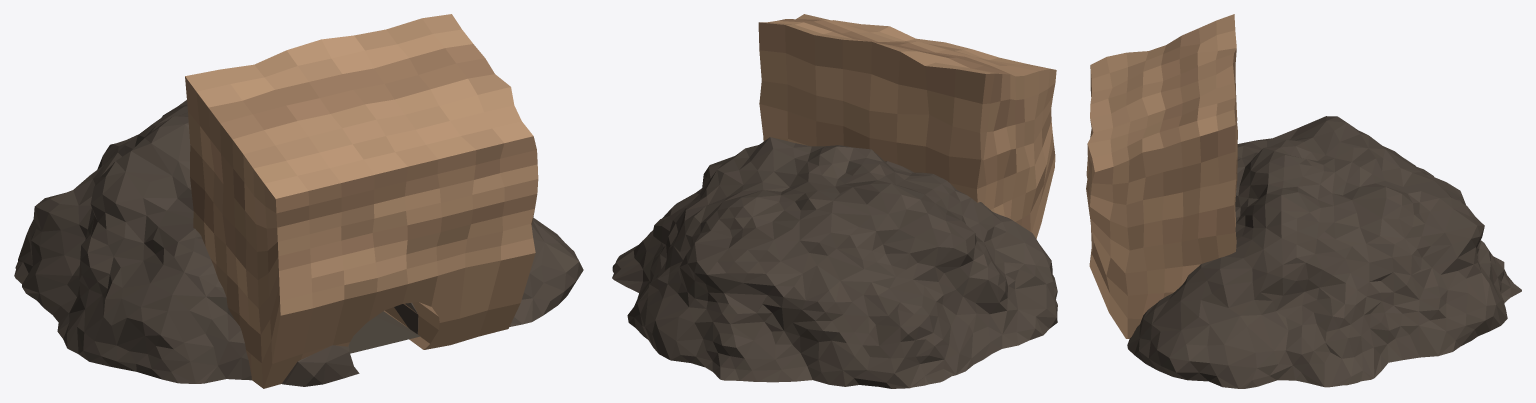
The model's file is lair.glb.
3 renders of one model, left to right at view 1: azimuth 30°, elevation 25°; view 2: azimuth 150°, elevation 25°; view 3: azimuth 270°, elevation 25°, orthographic. The views are drawn at different scales.
Parts seen in each view (by area): view 1: Lair_Arch, Lair_Rock, Lair_Floor; view 2: Lair_Rock, Lair_Arch; view 3: Lair_Rock, Lair_Arch.
Boxes of the visible parts, x1,y1,x2,y2 form: Lair_Arch: (185,14,538,388); Lair_Rock: (14,100,583,386); Lair_Floor: (349,311,420,353); Lair_Rock: (612,137,1057,388); Lair_Arch: (758,14,1056,238); Lair_Rock: (1127,116,1521,388); Lair_Arch: (1086,14,1237,338).
Size of the model in its own units: 85.28 by 46.75 by 82.08.
